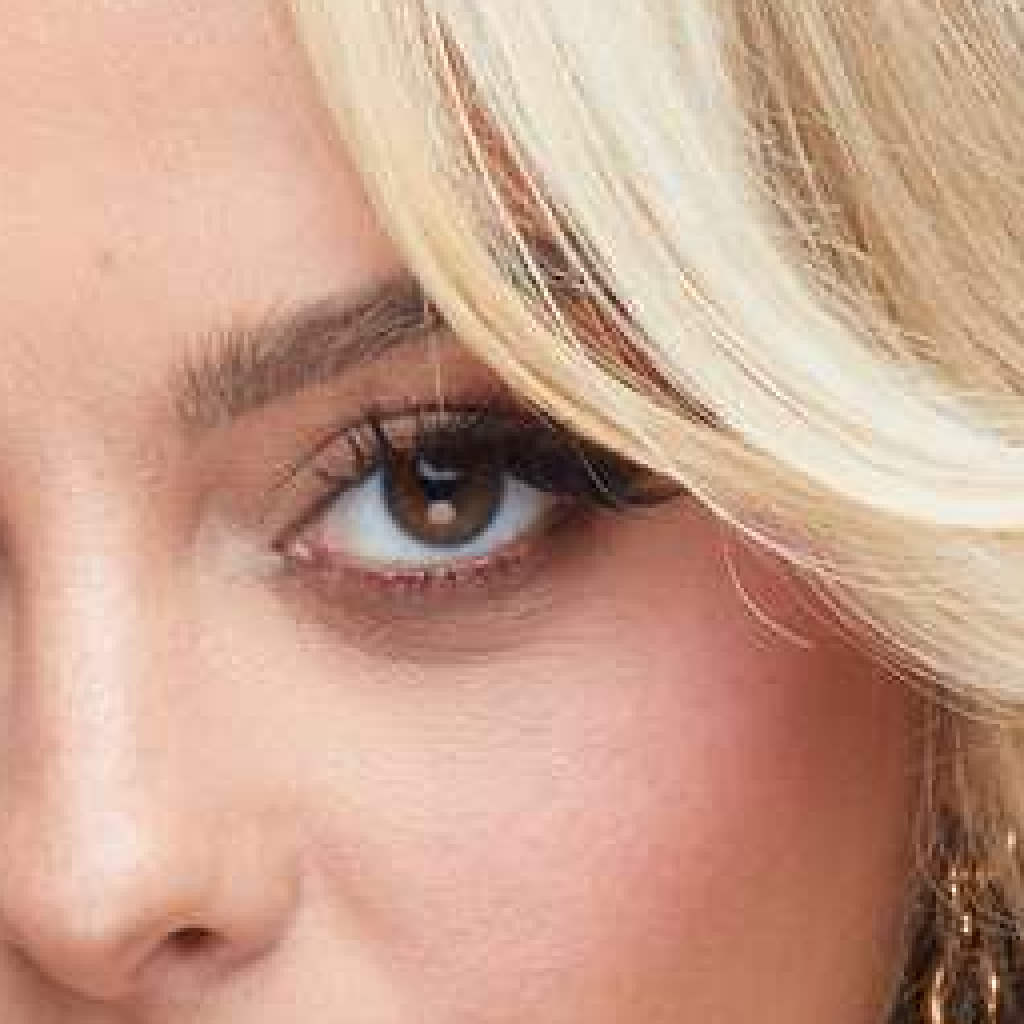iris: (387, 453, 504, 547)
pupil: (420, 452, 467, 500)
sclera: (329, 470, 552, 558)
